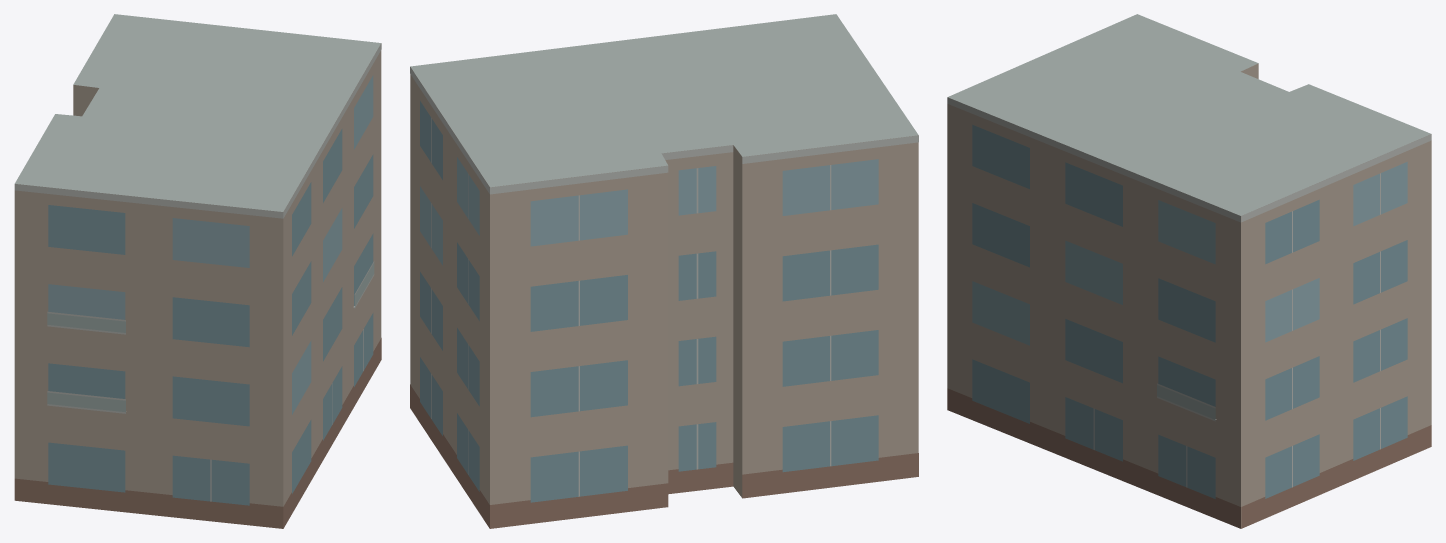
Rendered from survey-upis-33002413.glb.
3 renders of one model, left to right at view 1: azimuth 30°, elevation 25°; view 2: azimuth 150°, elevation 25°; view 3: azimuth 270°, elevation 25°, orthographic. The views are drawn at different scales.
Visible parts, largest first — view 1: survey-upis-33002413.tmp; view 2: survey-upis-33002413.tmp; view 3: survey-upis-33002413.tmp.
Part boxes in pixels (x1=…): survey-upis-33002413.tmp: x1=14, y1=14, x2=381, y2=528; survey-upis-33002413.tmp: x1=410, y1=14, x2=918, y2=528; survey-upis-33002413.tmp: x1=947, y1=14, x2=1431, y2=528.
Bounding box in the file's own units: 16.21 × 11.7 × 16.42.
